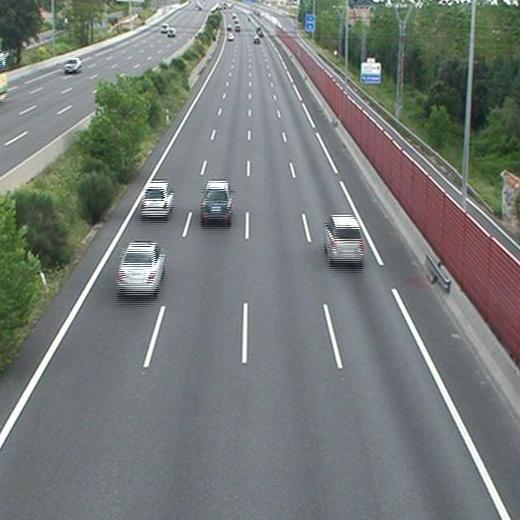car: (117, 243, 163, 292), (324, 217, 363, 264), (200, 182, 232, 221), (141, 182, 174, 215), (253, 37, 260, 44), (226, 34, 233, 40)
